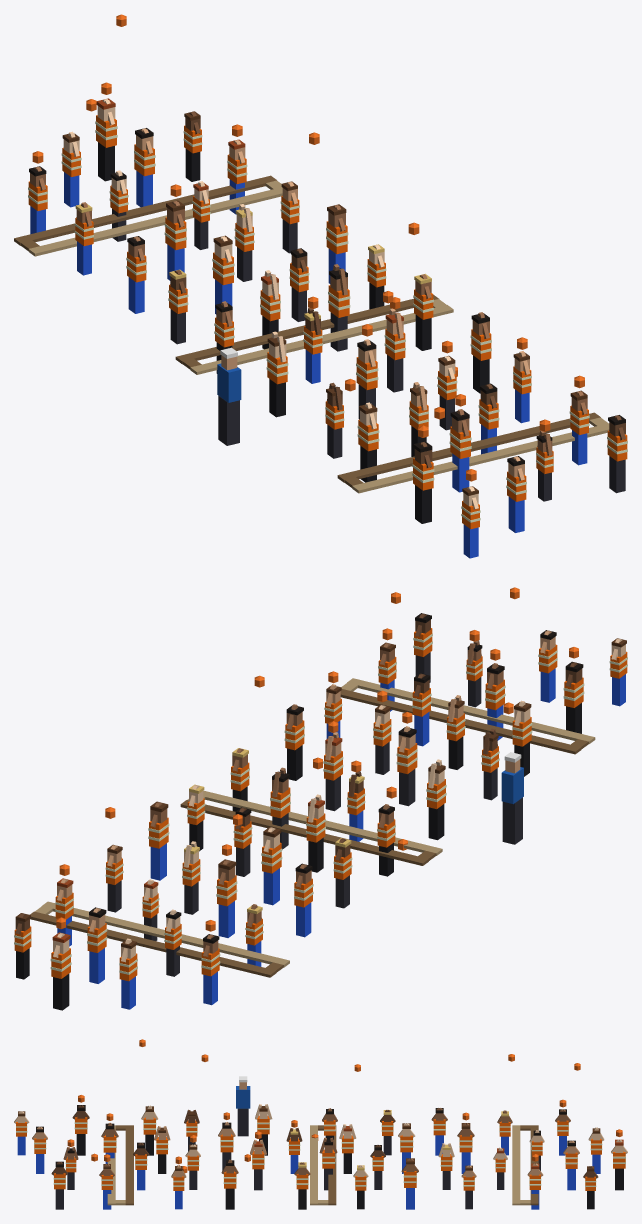
File: alumnos_basquet_1.obj
3 renders of one model, top to bottom at view 1: azimuth 30°, elevation 25°; view 2: azimuth 150°, elevation 25°; view 3: azimuth 270°, elevation 25°, orthographic. The views are drawn at different scales.
Parts seen in each view (by area): view 1: alumnos_basquet_1; view 2: alumnos_basquet_1; view 3: alumnos_basquet_1.
Part boxes in pixels (box(x1,y1,x2,y2)): alumnos_basquet_1: box(14, 14, 627, 558); alumnos_basquet_1: box(14, 587, 627, 1010); alumnos_basquet_1: box(14, 1039, 627, 1209).
Bounding box in the file's own units: 6.09 × 4.16 × 18.21.
